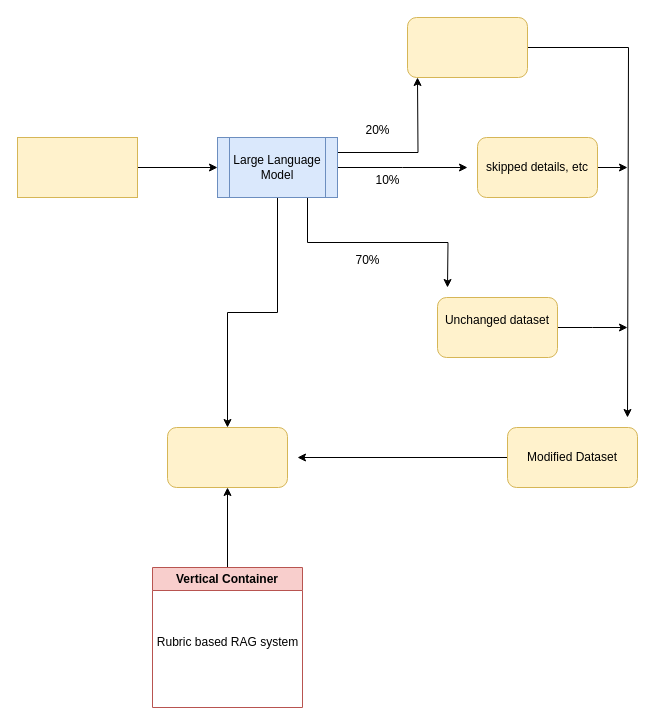
This 655x725 diagram has some shape labels left out. The centre of each missing label's shape, as x and y in pixels:
"Grading score and Feedback" goes at point 227,457.
"Incorrect Answers" goes at point 467,47.
"QA dataset Original" goes at point 77,167.
